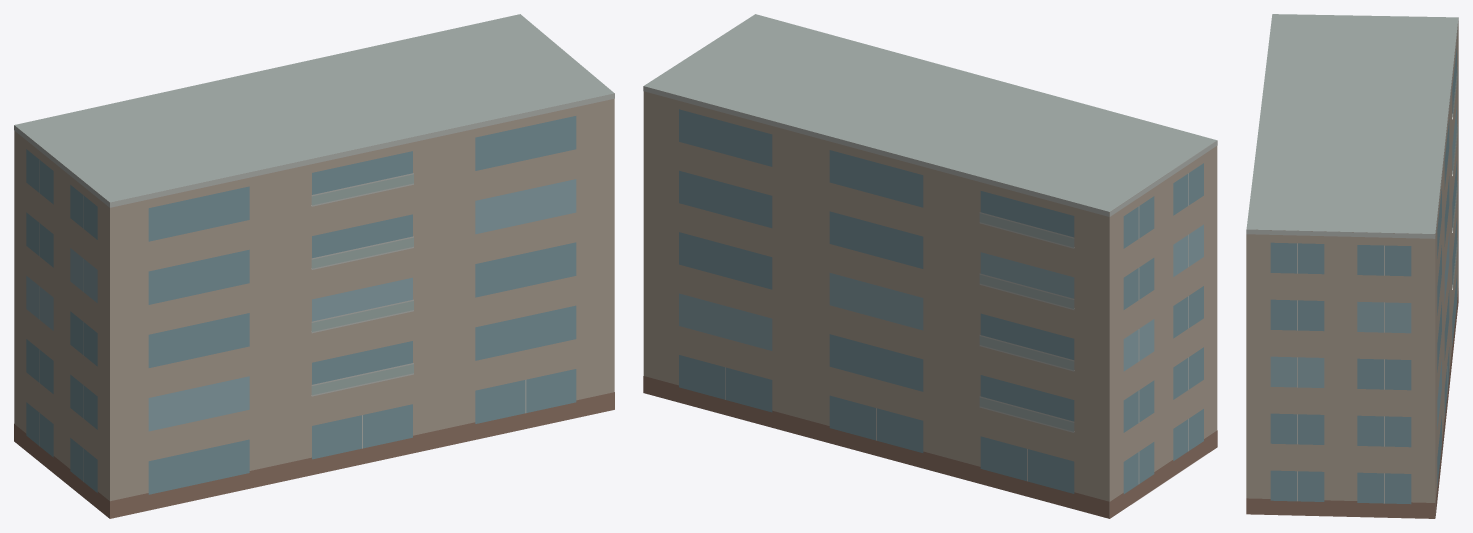
The model's file is survey-upis-33025648.glb.
The picture shows the model from 3 angles, left to right: view 1: azimuth 30°, elevation 25°; view 2: azimuth 150°, elevation 25°; view 3: azimuth 270°, elevation 25°; orthographic projection. The views are drawn at different scales.
Visible parts, largest first — view 1: survey-upis-33025648.tmp; view 2: survey-upis-33025648.tmp; view 3: survey-upis-33025648.tmp.
Part boxes in pixels (x1,y1,x2,y2): survey-upis-33025648.tmp: (14,14,614,518); survey-upis-33025648.tmp: (643,14,1217,518); survey-upis-33025648.tmp: (1246,14,1458,518).
Size of the model in its own units: 24.21 by 14.6 by 9.86.
